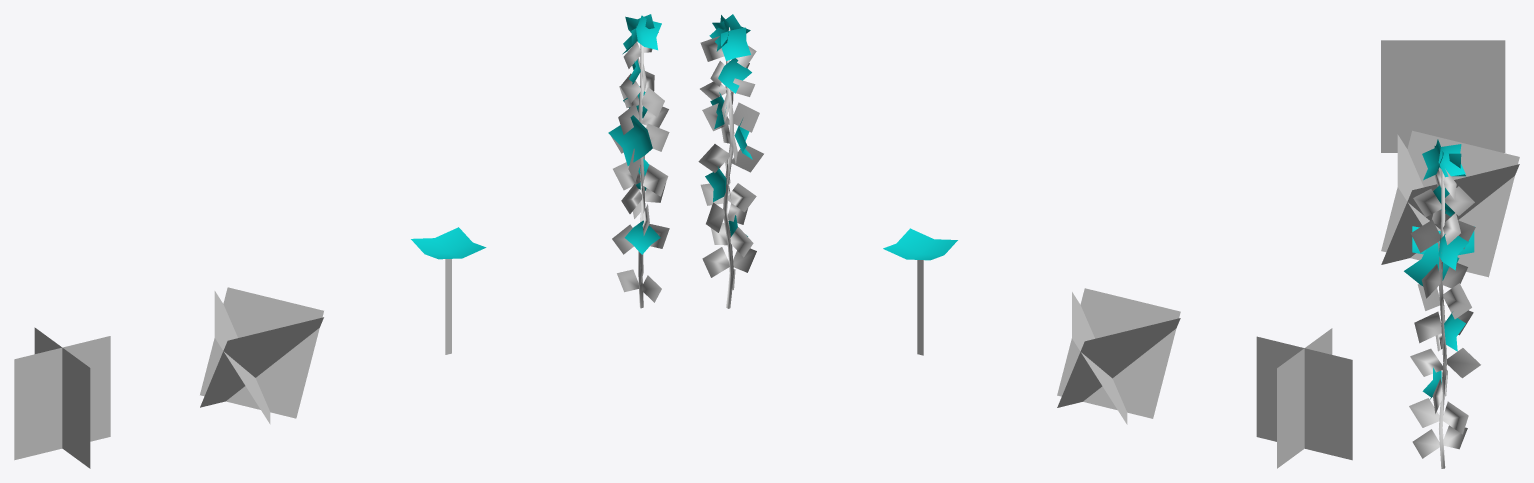
Rendered from PointGrass_EXAMPLE_Models.fbx.
3 views of the same model, side by side, from view 1: azimuth 30°, elevation 25°; view 2: azimuth 150°, elevation 25°; view 3: azimuth 270°, elevation 25° (orthographic). The views are drawn at different scales.
Visible parts, largest first — view 1: PG_Grass_Tri, PG_Grass_Cross, PG_TallFlowers, PG_Flower; view 2: PG_Grass_Tri, PG_Grass_Cross, PG_TallFlowers, PG_Flower; view 3: PG_Grass_Cross, PG_TallFlowers, PG_Grass_Tri, PG_Flower.
Part boxes in pixels (x1,y1,x2,y2): PG_Grass_Tri: (200, 287, 323, 424); PG_Grass_Cross: (14, 327, 110, 468); PG_TallFlowers: (608, 14, 669, 308); PG_Flower: (411, 227, 486, 354); PG_Grass_Tri: (1057, 288, 1180, 424); PG_Grass_Cross: (1256, 328, 1352, 468); PG_TallFlowers: (698, 14, 763, 308); PG_Flower: (883, 228, 957, 355); PG_Grass_Cross: (1381, 40, 1505, 152); PG_TallFlowers: (1404, 139, 1480, 468); PG_Grass_Tri: (1381, 130, 1519, 277); PG_Flower: (1412, 226, 1474, 255).
Size of the model in its own units: 3.39 by 1.46 by 0.558.
